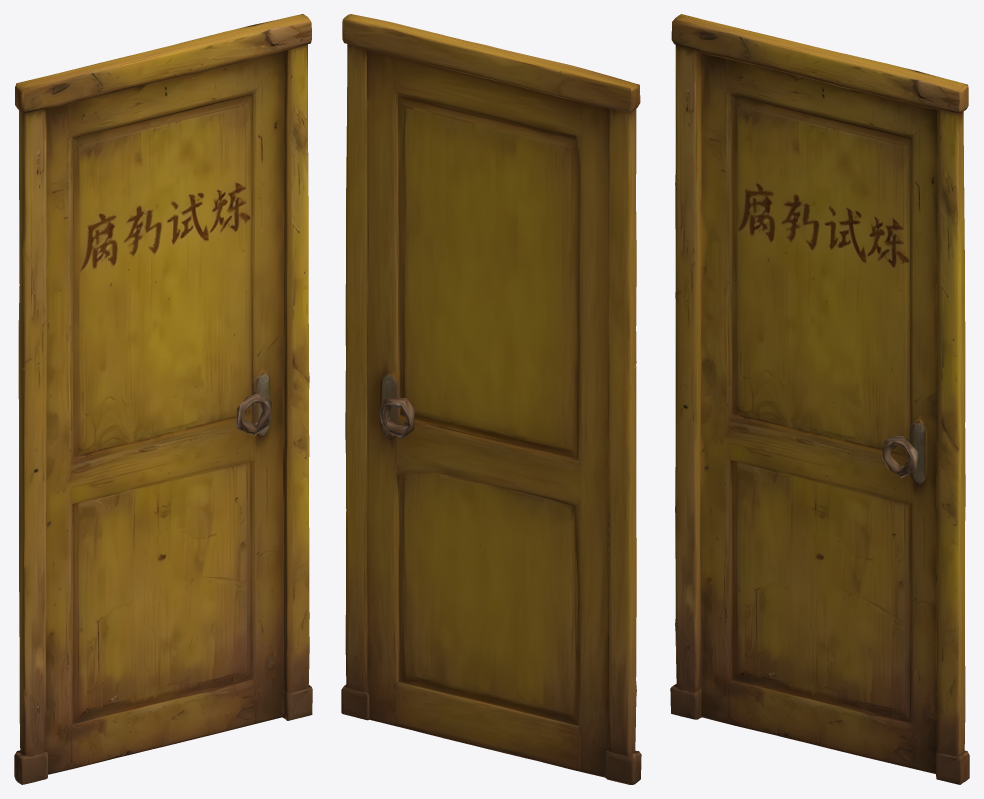
File: level-xw0-entry-door.glb
3 renders of one model, left to right at view 1: azimuth 30°, elevation 25°; view 2: azimuth 150°, elevation 25°; view 3: azimuth 330°, elevation 25°, orthographic.
Visible parts, largest first — view 1: tripo_node_bca11d63-ca44-4c3a-9f26-2eac30ae32be; view 2: tripo_node_bca11d63-ca44-4c3a-9f26-2eac30ae32be; view 3: tripo_node_bca11d63-ca44-4c3a-9f26-2eac30ae32be.
Boxes of the visible parts, <box> form: tripo_node_bca11d63-ca44-4c3a-9f26-2eac30ae32be: <box>14,14,312,784</box>; tripo_node_bca11d63-ca44-4c3a-9f26-2eac30ae32be: <box>341,14,641,784</box>; tripo_node_bca11d63-ca44-4c3a-9f26-2eac30ae32be: <box>670,14,969,784</box>.
Bounding box in the file's own units: 0.9 × 2.05 × 0.1.
Materials: 1 (1 with a texture image).
